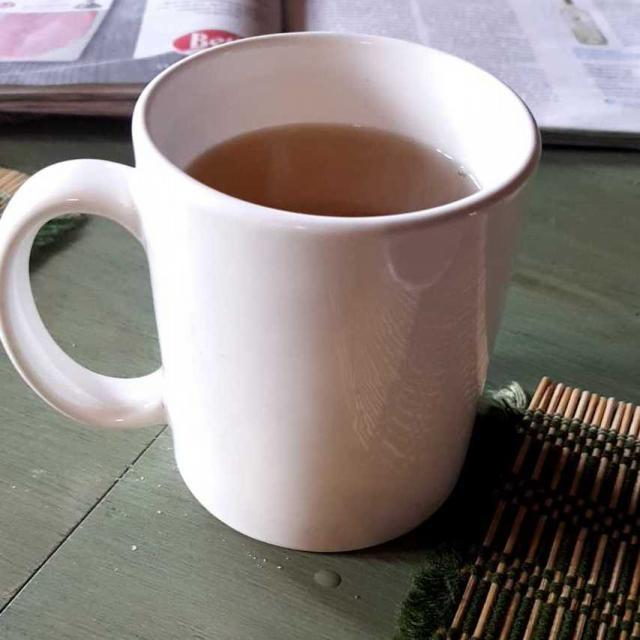tea: (187, 123, 476, 215)
